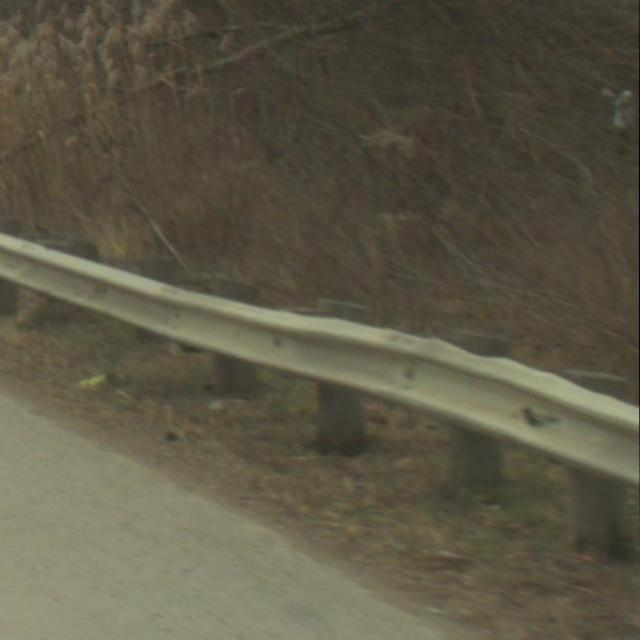Guard rail: (0, 210, 640, 584)
